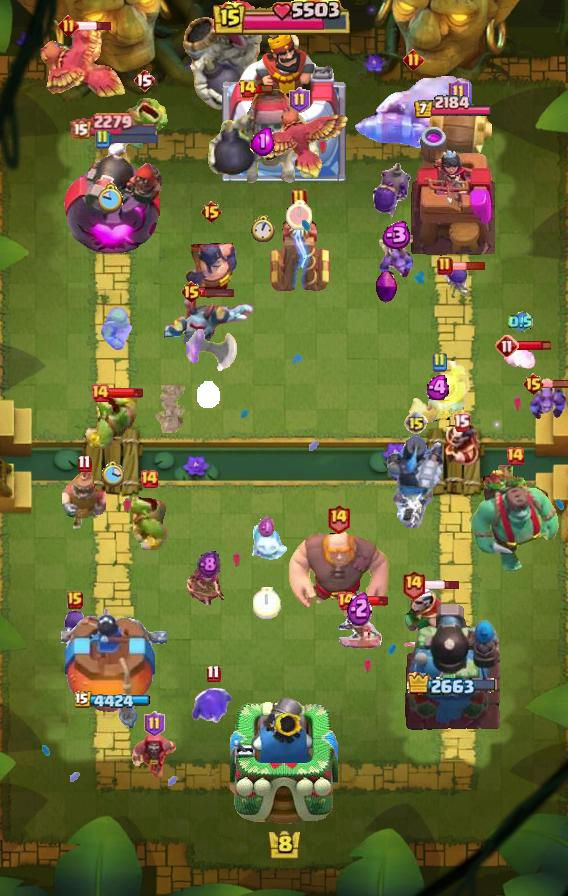archer: (187, 561, 229, 605)
axe: (186, 327, 238, 377)
bar: (107, 133, 159, 145), (517, 339, 552, 352), (424, 579, 461, 591), (76, 20, 113, 32), (353, 595, 389, 607), (108, 387, 144, 399), (200, 287, 235, 298), (451, 261, 486, 271), (542, 378, 568, 389), (254, 83, 274, 94)
bar-level: (401, 569, 426, 600), (326, 503, 351, 534), (404, 411, 428, 435), (495, 334, 519, 358), (522, 372, 545, 396), (180, 280, 203, 304), (200, 200, 223, 224), (144, 711, 165, 737), (289, 87, 310, 113), (448, 79, 469, 105), (133, 68, 155, 92), (403, 49, 424, 70), (58, 15, 79, 36), (336, 591, 356, 611), (139, 469, 159, 489), (505, 446, 525, 466), (90, 383, 110, 403), (238, 79, 257, 99), (453, 413, 470, 432), (431, 352, 447, 372), (437, 256, 453, 276), (291, 188, 307, 208), (94, 129, 110, 149), (67, 591, 83, 609), (206, 664, 221, 683), (77, 454, 92, 473)
barbarian-barrel: (421, 102, 495, 154)
bomber-evolution: (369, 161, 415, 225)
cannoneer-tower: (403, 601, 503, 731), (64, 138, 164, 256)
clock: (253, 587, 281, 619), (286, 200, 312, 230), (98, 183, 124, 213), (251, 215, 275, 243), (101, 460, 124, 488), (197, 381, 220, 408)
dirt: (151, 385, 189, 433)
electro-spirit: (192, 686, 234, 726)
electro-wizard: (440, 422, 482, 470)
elixir: (378, 221, 412, 249), (347, 589, 372, 626), (251, 126, 275, 156), (197, 550, 220, 579), (426, 375, 452, 400), (508, 311, 533, 333), (258, 516, 276, 539)
evolution-symbol: (375, 270, 397, 304)
executioner: (183, 229, 239, 301)
goblin: (95, 307, 135, 351)
goblin-brawler: (84, 390, 140, 450), (120, 97, 168, 149), (127, 494, 171, 550)
ice-spirit: (246, 524, 288, 570)
king-tower: (222, 31, 346, 181), (230, 692, 338, 826)
king-tower-bar: (213, 0, 355, 38)
knight: (408, 361, 471, 425)
lava-pup: (502, 342, 538, 374)
mega-minion: (160, 293, 256, 363)
minion: (377, 235, 413, 283), (528, 383, 568, 421)
princess: (333, 601, 385, 659)
queen-tower: (61, 603, 167, 731), (411, 122, 495, 256)
royal-recruit: (62, 466, 106, 530)
skeleton: (87, 138, 135, 170)
skeleton-evolution: (442, 263, 472, 303), (62, 610, 88, 646)
tesla: (265, 208, 333, 294)
tower-bar: (407, 672, 499, 699), (70, 112, 159, 139), (413, 95, 493, 120), (75, 691, 154, 711)
wizard: (131, 731, 177, 781)
